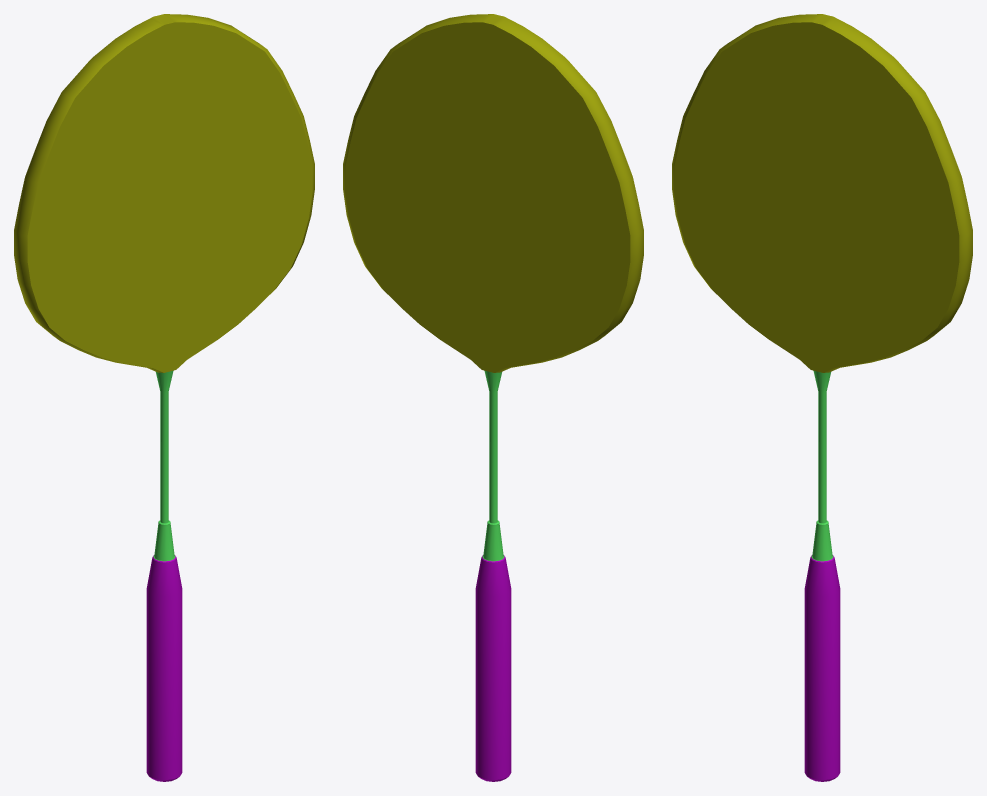
File: SM_Racket_02.FBX
3 renders of one model, left to right at view 1: azimuth 30°, elevation 25°; view 2: azimuth 150°, elevation 25°; view 3: azimuth 330°, elevation 25°, orthographic.
Visible parts, largest first — view 1: Racket_02; view 2: Racket_02; view 3: Racket_02.
Part boxes in pixels (left/top/right/bottom): Racket_02: left=14, top=14, right=314, bottom=781; Racket_02: left=343, top=14, right=643, bottom=781; Racket_02: left=672, top=14, right=972, bottom=781.
Size of the model in its own units: 37.81 by 4 by 93.16.
